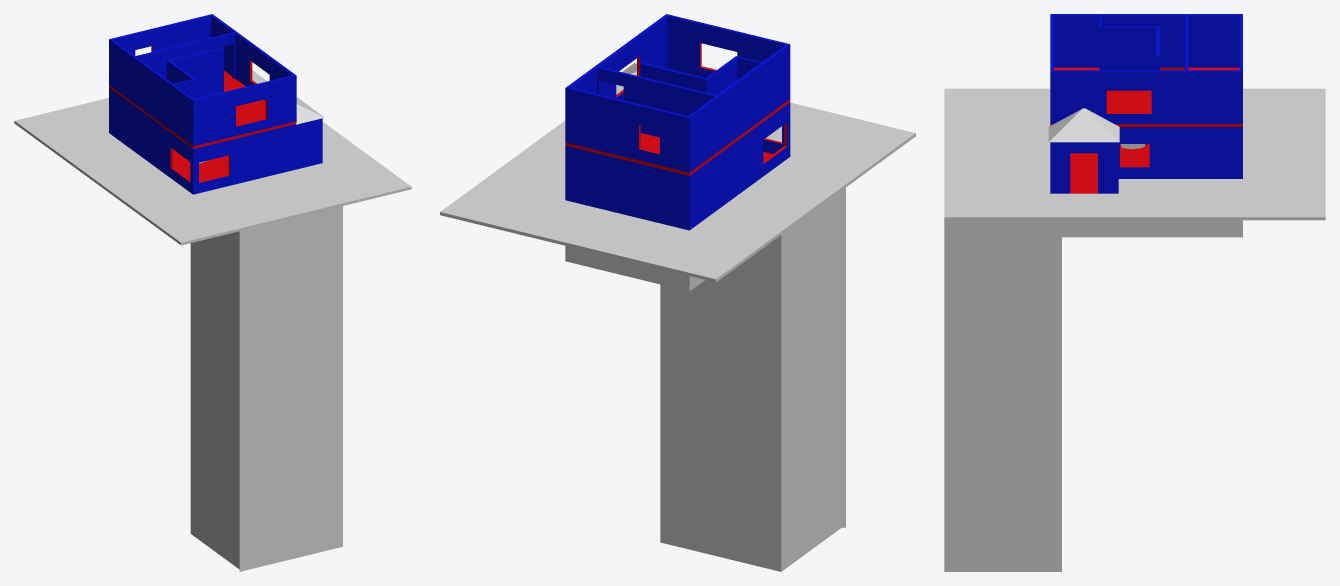
Rendered from OddHouseBuilding.fbx.
The picture shows the model from 3 angles, left to right: view 1: azimuth 30°, elevation 25°; view 2: azimuth 150°, elevation 25°; view 3: azimuth 270°, elevation 25°; orthographic projection. The views are drawn at different scales.
Visible parts, largest first — view 1: Basement, Ground, TopFloor, BottomFloor; view 2: Basement, Ground, TopFloor, BottomFloor; view 3: Basement, Ground, TopFloor, BottomFloor, RoofBottomFloor.
Boxes of the visible parts, x1=… form: Basement: x1=186, y1=159, x2=342, y2=571; Ground: x1=14, y1=70, x2=411, y2=245; TopFloor: x1=109, y1=14, x2=296, y2=148; BottomFloor: x1=109, y1=88, x2=322, y2=194; Basement: x1=565, y1=188, x2=845, y2=571; Ground: x1=440, y1=102, x2=915, y2=282; TopFloor: x1=565, y1=14, x2=790, y2=175; BottomFloor: x1=565, y1=102, x2=790, y2=230; Basement: x1=944, y1=144, x2=1242, y2=571; Ground: x1=944, y1=88, x2=1325, y2=220; TopFloor: x1=1050, y1=14, x2=1242, y2=126; BottomFloor: x1=1050, y1=127, x2=1242, y2=193; RoofBottomFloor: x1=1048, y1=108, x2=1119, y2=142.
Size of the model in its own units: 890 by 1614 by 1115.
